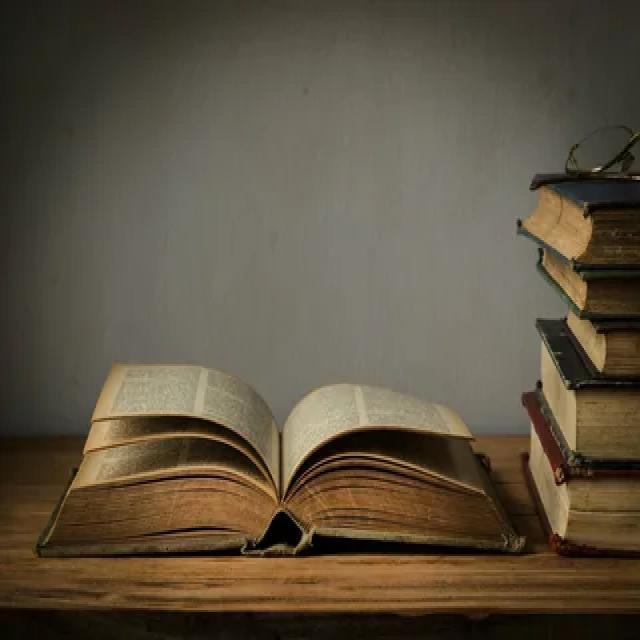book: (33, 342, 537, 587)
